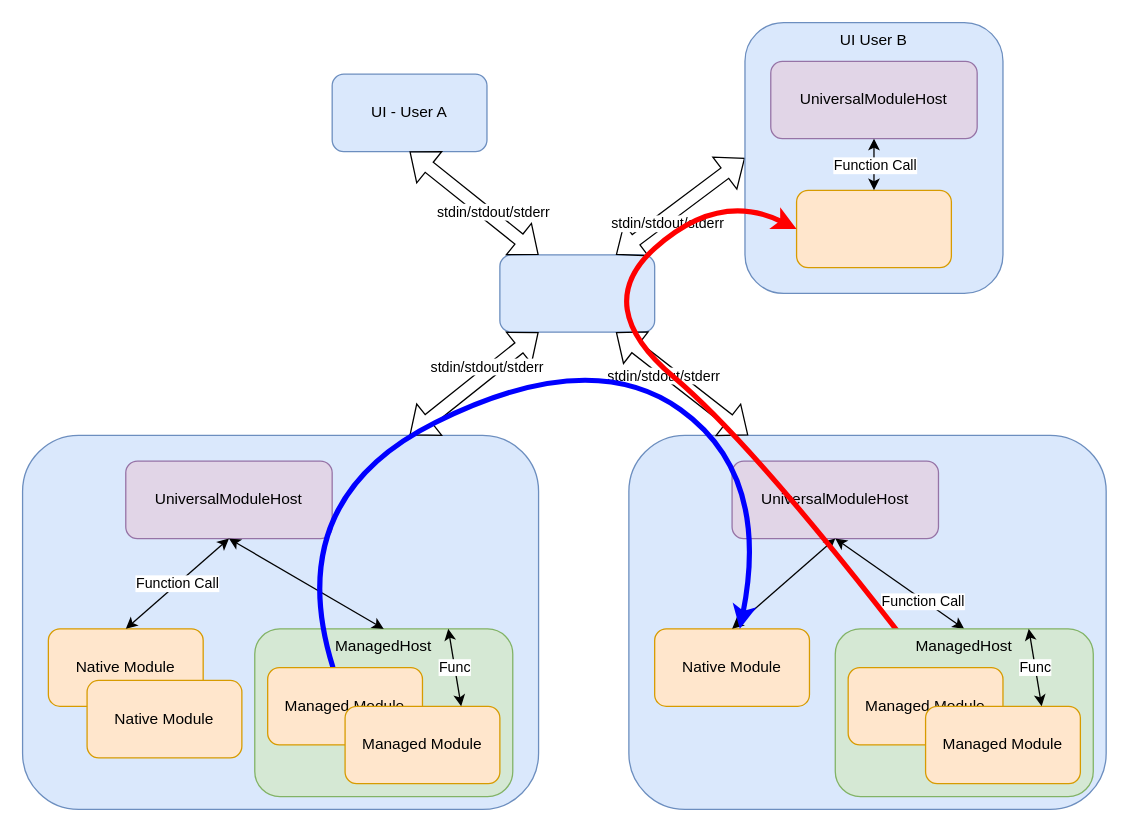
Some shapes in this 1129 by 832 pixel diagram are drawn without their labels. The shapes that lost their labels are listed below. From the top down, each one's centre as x and y in pixels, then its label:
pixel 873 228: Managed WPF UI
pixel 577 292: Broker
